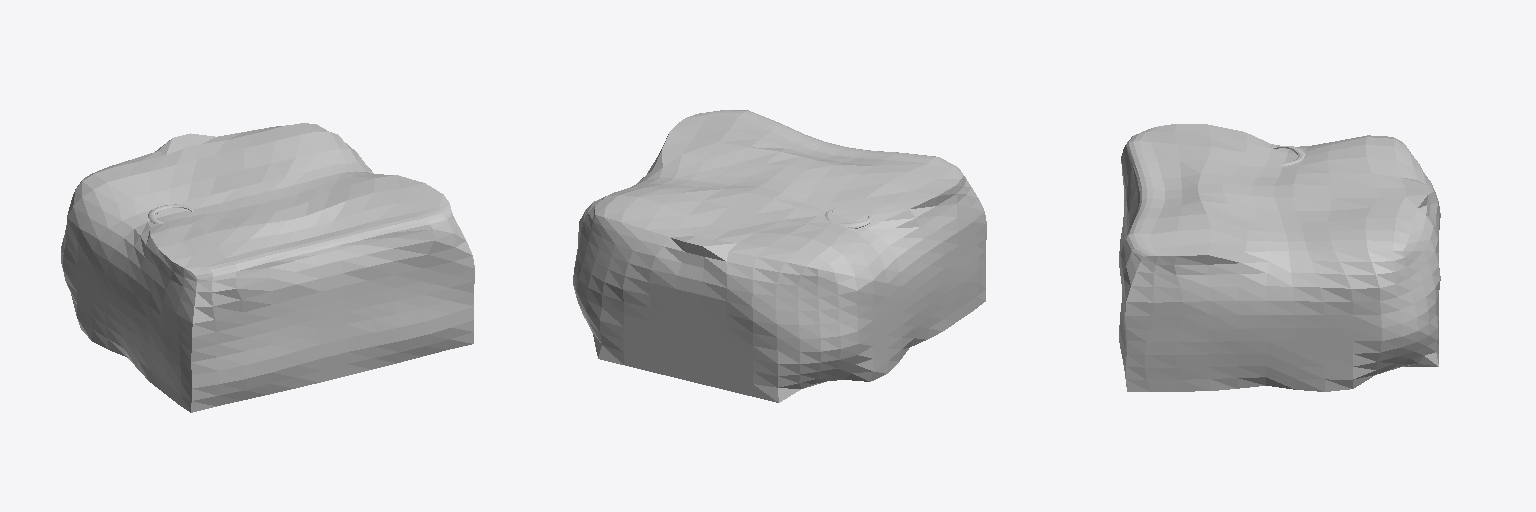
The model's file is nahodkavrata.obj.
3 views of the same model, side by side, from view 1: azimuth 30°, elevation 25°; view 2: azimuth 150°, elevation 25°; view 3: azimuth 270°, elevation 25° (orthographic).
Parts seen in each view (by area): view 1: Cube_Cube.001; view 2: Cube_Cube.001; view 3: Cube_Cube.001.
Boxes of the visible parts, x1,y1,x2,y2 form: Cube_Cube.001: [61, 123, 474, 412]; Cube_Cube.001: [573, 110, 986, 402]; Cube_Cube.001: [1119, 124, 1440, 391].
Bounding box in the file's own units: 9.42 × 4.34 × 9.17.